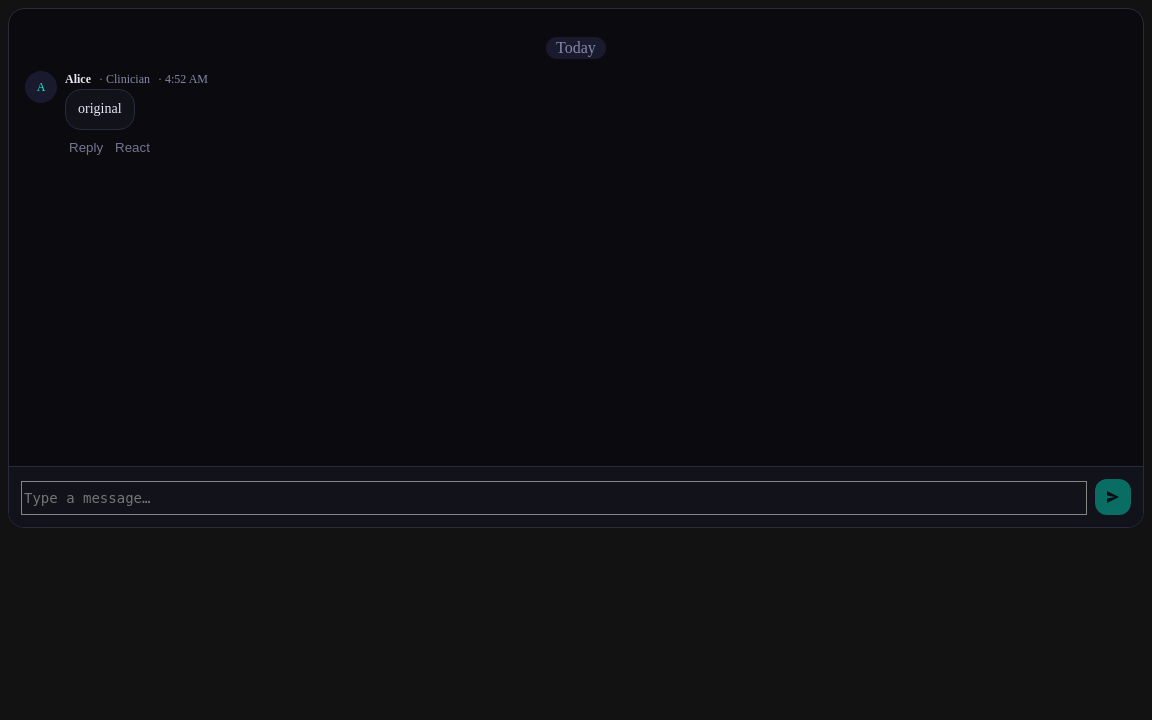
Test: TkxMessageThread › cancel reply removes the reply preview chip
Click the button with aria-label "Reply to message" at (86, 147), box x1=65 y1=138 x2=107 y2=157
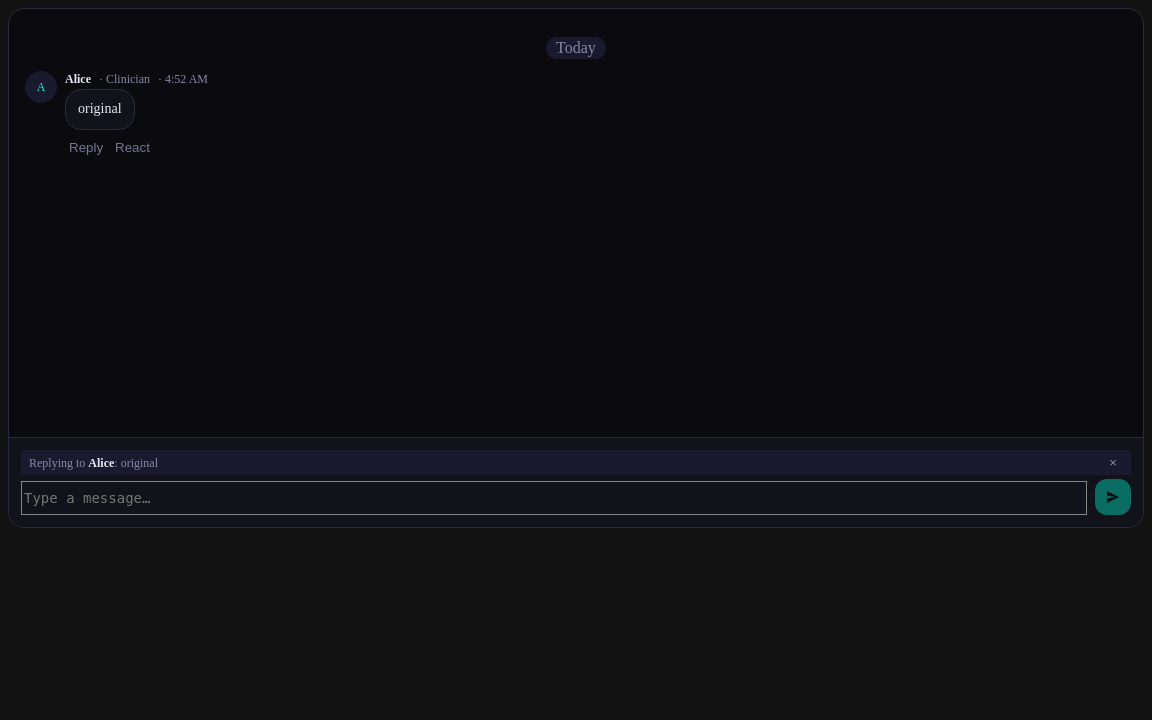
Check: the text "Replying to Alice: original" is shown, box x1=29 y1=456 x2=158 y2=470
Click the button named "Cancel reply" at (1113, 462), box x1=1103 y1=454 x2=1123 y2=471
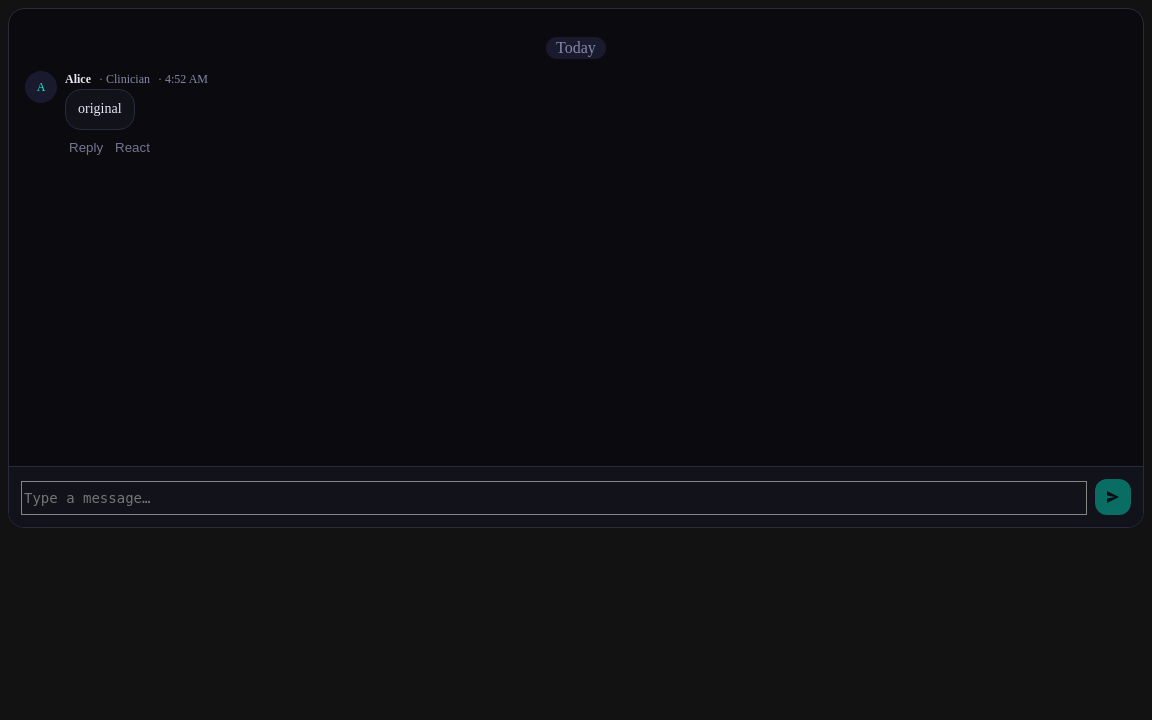
Check: the text "Replying to" is gone
